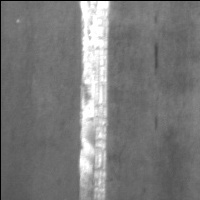inclusion: (148, 36, 163, 77)
scratches: (75, 3, 112, 200)
